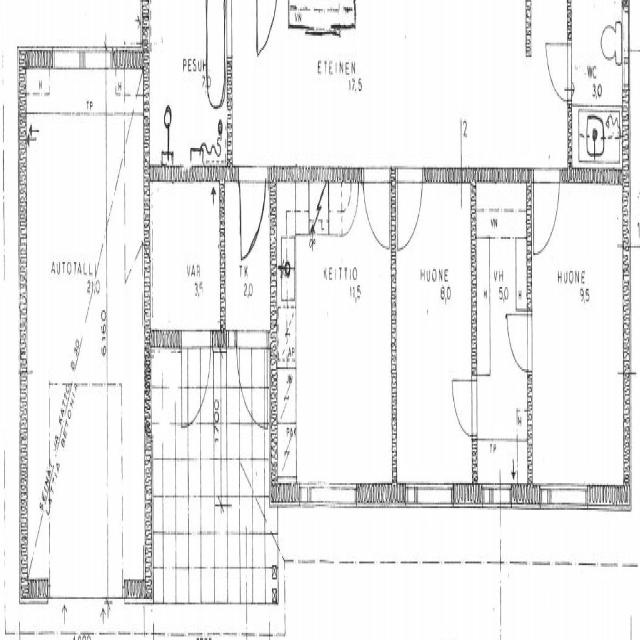door: (233, 328, 269, 437), (176, 335, 212, 440), (233, 161, 268, 263), (528, 152, 563, 254), (445, 368, 482, 457), (357, 152, 387, 260), (397, 150, 426, 257), (545, 33, 579, 115), (505, 300, 533, 381), (307, 175, 328, 243)
window: (43, 36, 120, 75), (295, 471, 367, 511), (538, 478, 594, 526), (405, 477, 459, 526), (480, 482, 516, 518)
